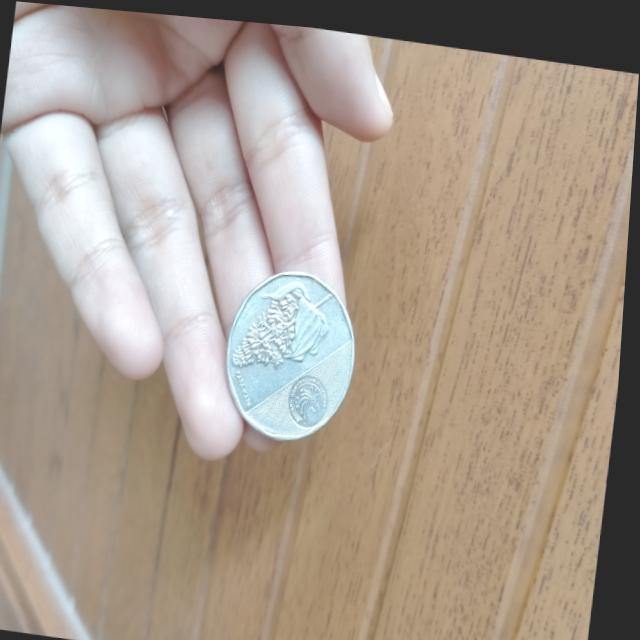10_New_Back: (233, 254, 345, 380)
